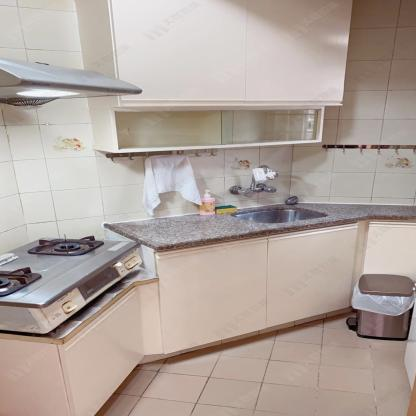Cupboard: (75, 0, 351, 153)
Exhaust Hood: (0, 56, 140, 111)
Faucet: (223, 163, 277, 198)
Sink: (214, 201, 348, 231)
Stove: (0, 234, 144, 333)
